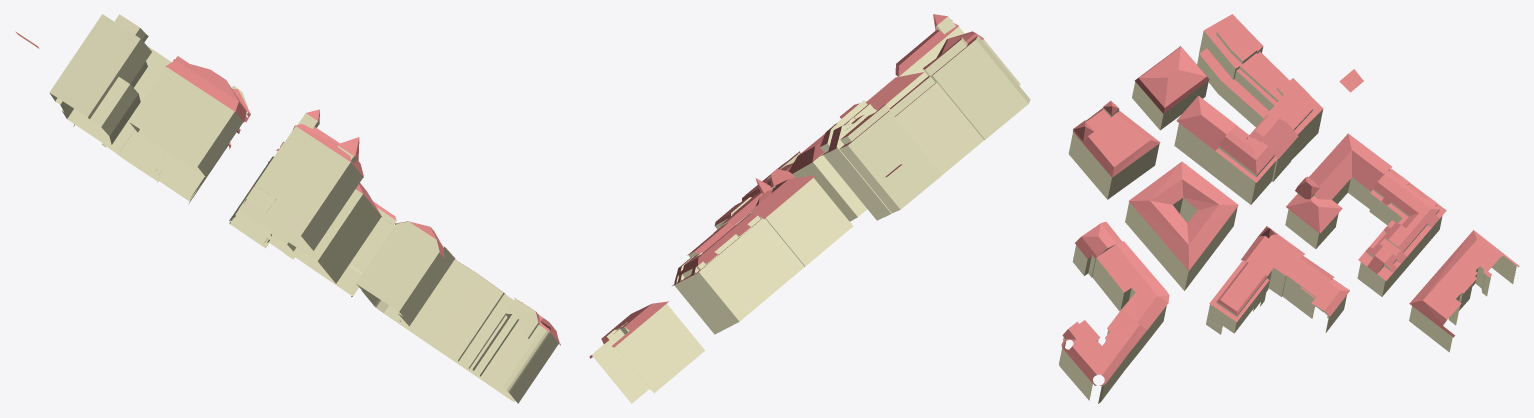
The model's file is tile_101.glb.
3 views of the same model, side by side, from view 1: azimuth 30°, elevation 25°; view 2: azimuth 150°, elevation 25°; view 3: azimuth 270°, elevation 25° (orthographic). The views are drawn at different scales.
Visible parts, largest first — view 1: Batched_Building_ID_069B9B88-7875-4C12-91A6-D003BB25F602, Batched_Building_ID_85EC1009-AAB9-4CAB-96C3-62844425DC9D; view 2: Batched_Building_ID_069B9B88-7875-4C12-91A6-D003BB25F602, Batched_Building_ID_85EC1009-AAB9-4CAB-96C3-62844425DC9D; view 3: Batched_Building_ID_85EC1009-AAB9-4CAB-96C3-62844425DC9D, Batched_Building_ID_069B9B88-7875-4C12-91A6-D003BB25F602.
Boxes of the visible parts, x1,y1,x2,y2 form: Batched_Building_ID_069B9B88-7875-4C12-91A6-D003BB25F602: [14, 14, 558, 403]; Batched_Building_ID_85EC1009-AAB9-4CAB-96C3-62844425DC9D: [16, 32, 560, 345]; Batched_Building_ID_069B9B88-7875-4C12-91A6-D003BB25F602: [592, 16, 1030, 403]; Batched_Building_ID_85EC1009-AAB9-4CAB-96C3-62844425DC9D: [589, 14, 983, 358]; Batched_Building_ID_85EC1009-AAB9-4CAB-96C3-62844425DC9D: [1061, 14, 1519, 386]; Batched_Building_ID_069B9B88-7875-4C12-91A6-D003BB25F602: [1059, 31, 1516, 403].
Bounding box in the file's own units: 147 × 133 × 198.
